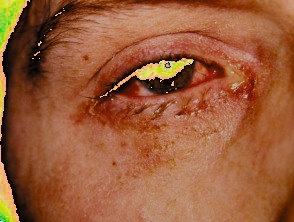SJS-TEN: (68, 35, 270, 150)
